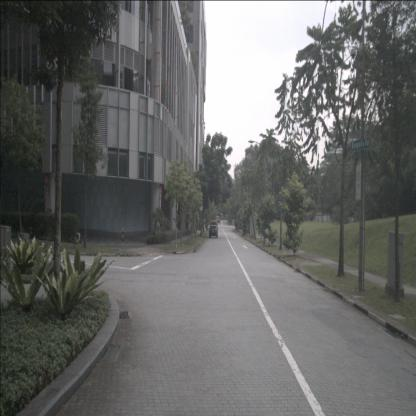vehicle-bicycle: (74, 227, 83, 251)
vehicle-car: (209, 226, 218, 238), (210, 220, 218, 232)
vehicle-truck: (217, 213, 223, 220), (215, 216, 220, 224)
